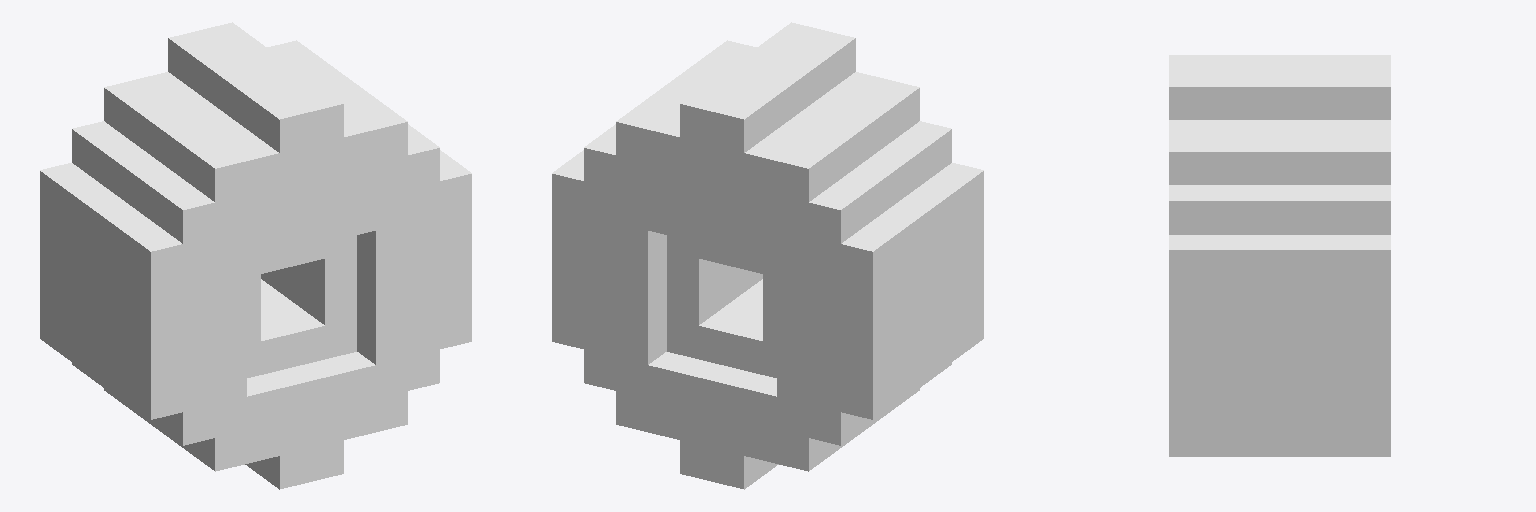
Rendered from waypoint.obj.
3 views of the same model, side by side, from view 1: azimuth 30°, elevation 25°; view 2: azimuth 150°, elevation 25°; view 3: azimuth 270°, elevation 25° (orthographic).
Parts seen in each view (by area): view 1: waypoint; view 2: waypoint; view 3: waypoint.
Boxes of the visible parts, x1=… form: waypoint: x1=40, y1=22, x2=471, y2=489; waypoint: x1=552, y1=22, x2=983, y2=489; waypoint: x1=1169, y1=55, x2=1390, y2=456.
Size of the model in its own units: 10 by 11 by 6.